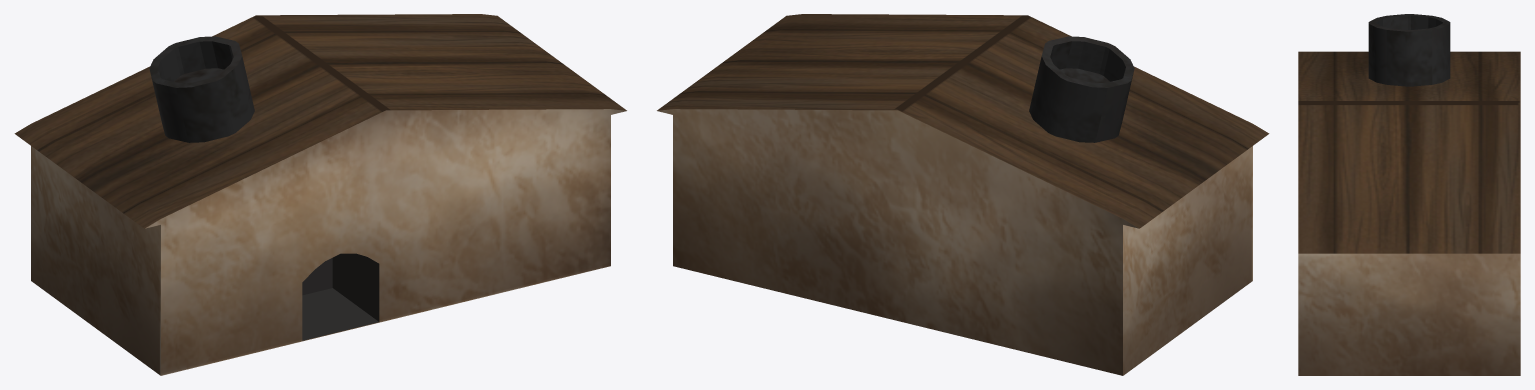
The model's file is hamster_house_wood.FBX.
The picture shows the model from 3 angles, left to right: view 1: azimuth 30°, elevation 25°; view 2: azimuth 150°, elevation 25°; view 3: azimuth 270°, elevation 25°; orthographic projection. The views are drawn at different scales.
Parts seen in each view (by area): view 1: hamster_house; view 2: hamster_house; view 3: hamster_house.
Boxes of the visible parts, x1,y1,x2,y2 form: hamster_house: [14, 14, 626, 375]; hamster_house: [657, 14, 1269, 375]; hamster_house: [1298, 14, 1520, 375].
Size of the model in its own units: 64.39 by 32.06 by 30.
Materials: 1 (1 with a texture image).
